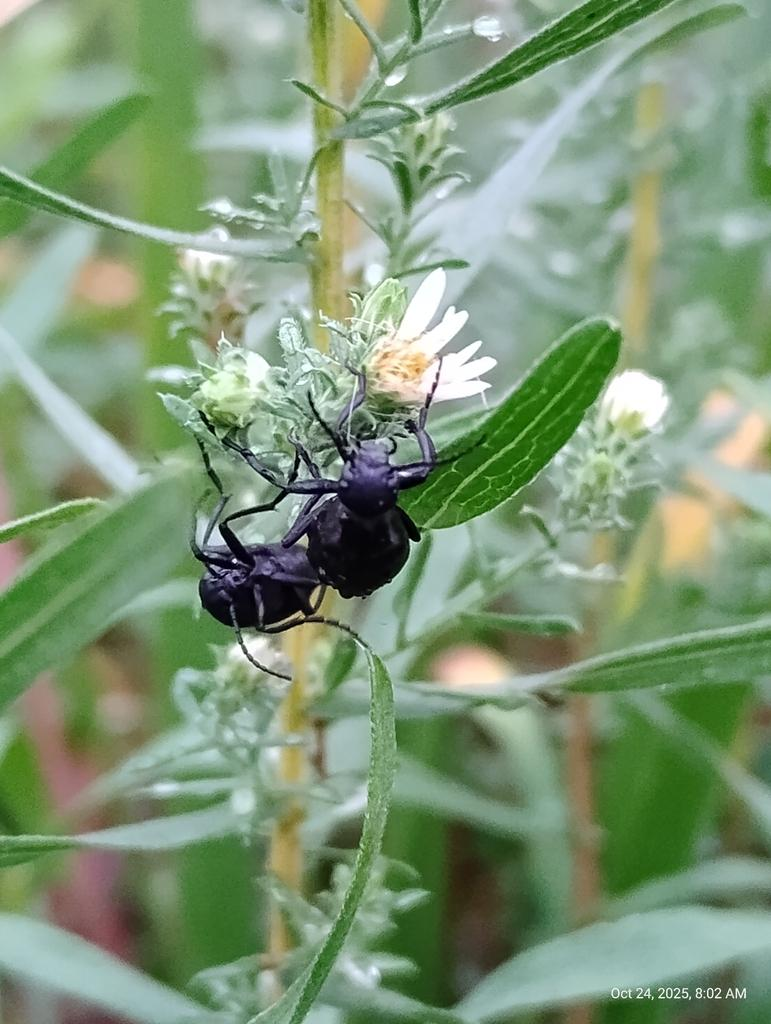blister_beetle: (206, 317, 515, 627), (152, 458, 341, 730)
